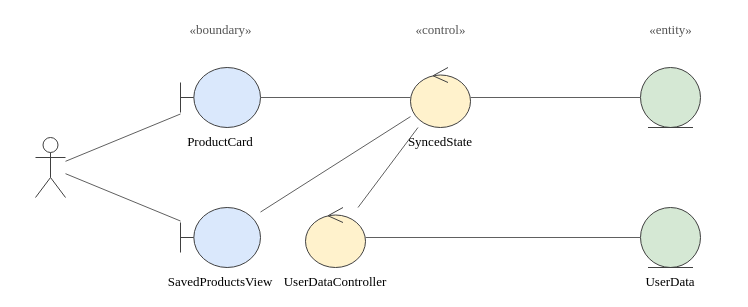
Image size: 748x307. Some labels were removed from this diagram. The centre of each missing label's shape, as x and y in pixels:
Người dùng: point (50, 167)
SavedProduct: point (670, 97)
